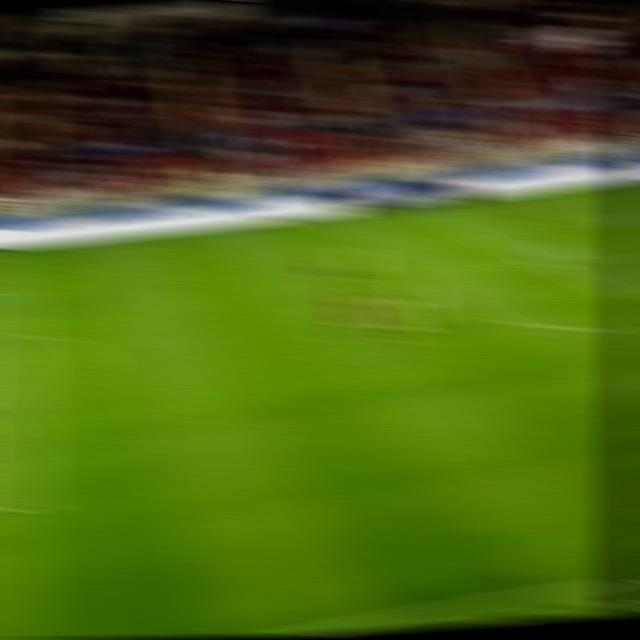bigarea_bottom_inner: (10, 490, 54, 515)
bigarea_top_inner: (5, 282, 43, 301)
bottom_arc_area_intersection: (8, 394, 50, 416)
halfcircle_top: (519, 251, 557, 270)
midline_top_intersection: (407, 203, 444, 220)
top_arc_area_intersection: (6, 323, 45, 344)
